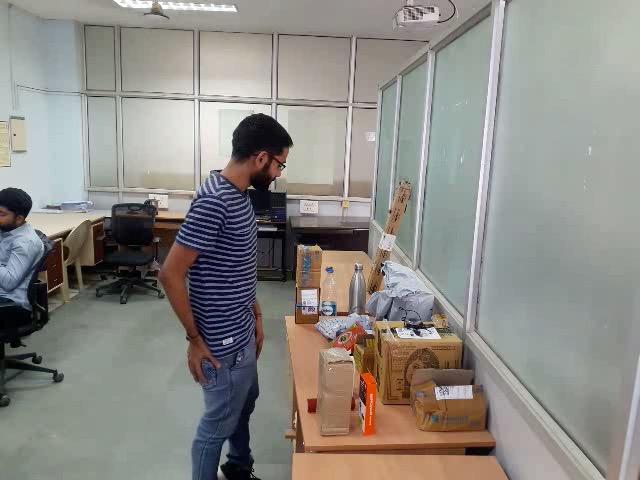Normal: (1, 0, 640, 480)
